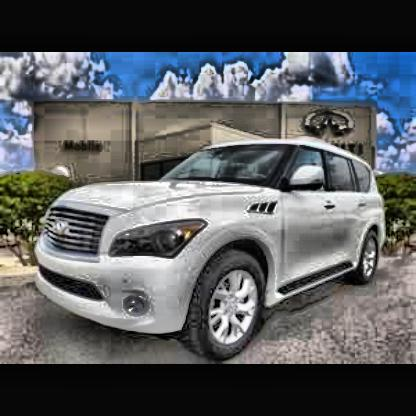Infiniti QX56 SUV 2011: (34, 141, 386, 361)
